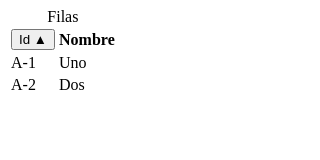
Test: TablaDatos › ordena por una columna ordenable y marca aria-sort
Click the button "Id ▲" at (33, 40), box [11,29,55,50]
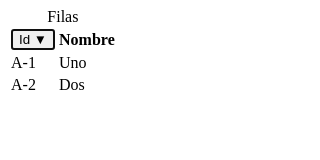
Check: the column heading "Id ▼" has attribute aria-sort="descending", box [10,28,56,51]
